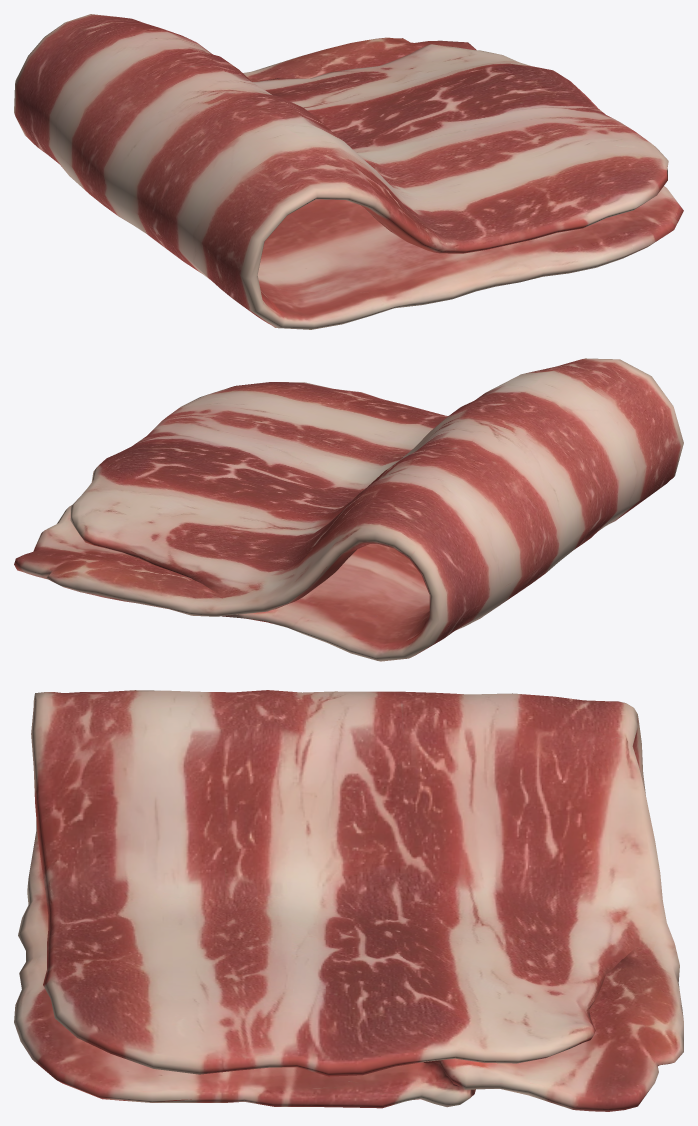
The model's file is optimized_glb.glb.
3 views of the same model, one above another, from view 1: azimuth 30°, elevation 25°; view 2: azimuth 150°, elevation 25°; view 3: azimuth 270°, elevation 25° (orthographic). The views are drawn at different scales.
Parts seen in each view (by area): view 1: Fatty Beef Slice; view 2: Fatty Beef Slice; view 3: Fatty Beef Slice.
Boxes of the visible parts, x1,y1,x2,y2 form: Fatty Beef Slice: (14, 14, 683, 329); Fatty Beef Slice: (14, 358, 683, 661); Fatty Beef Slice: (14, 690, 683, 1111).
Bounding box in the file's own units: 0.998 × 0.3262 × 0.9941.
Materials: 1 (1 with a texture image).
